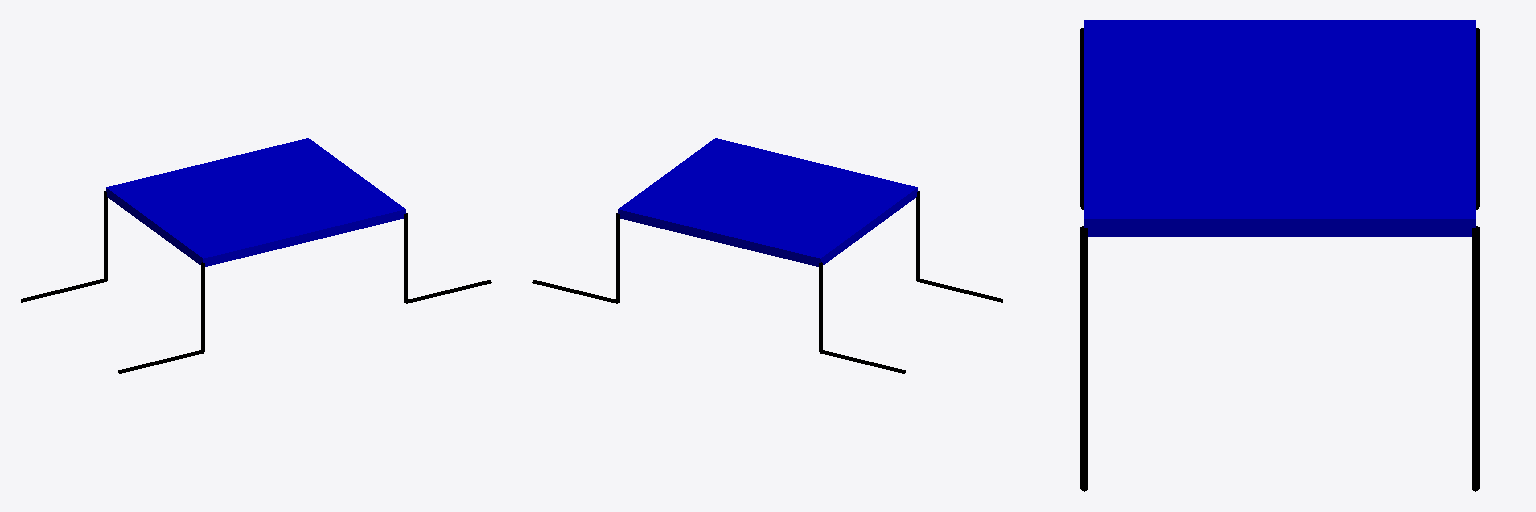
The robot description file, URDF, robot "Nybble":
<?xml version="1.0"?>
<robot name="Nybble">

    <material name="blue">
        <color rgba="0 0 0.8 1"/>
    </material>
    <material name="black">
        <color rgba="0 0 0 1"/>
    </material>

    <link name="torso">       
        <visual>
            <geometry>
                <box size="0.12 0.10 0.005"/>
            </geometry>
            <material name="blue"/>
        </visual>
      
        <collision>
              <geometry>
                    <box size="0.12 0.10 0.005"/>
              </geometry>
              <origin xyz="0 0 0"/>
        </collision>

        <inertial>
              <origin xyz="0 0 0"/>
              <mass value="0.2"/>
              <inertia ixx="0.0002" iyy="0.0003"  izz="0.0004" ixy="0.0" ixz="0.0" iyz="0.0"/>
        </inertial>
    </link>


    <link name="left_upper_arm">
        <visual>
            <origin xyz="0.00 .00 -0.025" rpy="0 0 0" />
            <geometry>
              <cylinder radius="0.001" length="0.05"/>
            </geometry>
            <material name="black"/>
        </visual>

        <collision>
            <geometry>
              <cylinder radius="0.001" length="0.05"/>
            </geometry>
            <origin xyz="0.00 .00 -0.025" rpy="0 0 0" />
        </collision>

        <inertial>
            <origin xyz=".0 .00 0.0" rpy="0 0 0" />
            <mass value="0.025"/>
            <inertia ixx="0.0" ixy="0.0" ixz="0.0" iyy="0.0" iyz="0.0" izz="0.0"/>
        </inertial>
    </link>   

    <link name="right_upper_arm">
            <visual>
                <origin xyz="0.00 .00 -0.025" rpy="0 0 0" />
                <geometry>
                  <cylinder radius="0.001" length="0.05"/>
                </geometry>
                <material name="black"/>
            </visual>

            <collision>
                <geometry>
                  <cylinder radius="0.001" length="0.05"/>
                </geometry>
                <origin xyz="0.00 .00 -0.025" rpy="0 0 0" />
            </collision>

            <inertial>
                <origin xyz=".0 .00 0.0" rpy="0 0 0" />
                <mass value="0.025"/>
                <inertia ixx="0.0" ixy="0.0" ixz="0.0" iyy="0.0" iyz="0.0" izz="0.0"/>
            </inertial>
        </link>   



    <link name="left_lower_arm">
        <visual>
            <origin xyz="0.00 .00 -0.025" rpy="0 0 0" />
            <geometry>
              <cylinder radius="0.001" length="0.05"/>
            </geometry>
            <material name="black"/>
        </visual>

        <collision>
            <geometry>
              <cylinder radius="0.001" length="0.05"/>
            </geometry>
            <origin xyz="0.00 .00 -0.025" rpy="0 0 0" />
        </collision>


        <inertial>
            <origin xyz=".0 .00 0.0" rpy="0 0 0" />
            <mass value="0.075"/>
            <inertia ixx="0.0" ixy="0.0" ixz="0.0" iyy="0.0" iyz="0.0" izz="0.0"/>
        </inertial>
    </link>   




    

    <link name="right_lower_arm">
        <visual>
            <origin xyz="0.00 .00 -0.025" rpy="0 0 0" />
            <geometry>
              <cylinder radius="0.001" length="0.05"/>
            </geometry>
            <material name="black"/>
        </visual>

        <collision>
            <geometry>
              <cylinder radius="0.001" length="0.05"/>
            </geometry>
            <origin xyz="0.00 .00 -0.025" rpy="0 0 0" />
        </collision>

        <inertial>
            <origin xyz=".0 .00 0.0" rpy="0 0 0" />
            <mass value="0.075"/>
            <inertia ixx="0.0" ixy="0.0" ixz="0.0" iyy="0.0" iyz="0.0" izz="0.0"/>
        </inertial>
    </link>   

    <link name="right_upper_leg">
        <visual>
            <origin xyz="0.00 .00 -0.025" rpy="0 0 0" />
            <geometry>
              <cylinder radius="0.001" length="0.05"/>
            </geometry>
            <material name="black"/>
        </visual>

        <collision>
            <geometry>
              <cylinder radius="0.001" length="0.05"/>
            </geometry>
            <origin xyz="0.00 .00 -0.025" rpy="0 0 0" />
        </collision>

        <inertial>
            <origin xyz=".0 .00 0.0" rpy="0 0 0" />
            <mass value="0.025"/>
            <inertia ixx="0.0" ixy="0.0" ixz="0.0" iyy="0.0" iyz="0.0" izz="0.0"/>
        </inertial>
    </link>   

    <link name="right_lower_leg">
        <visual>
            <origin xyz="0.00 .00 -0.025" rpy="0 0 0" />
            <geometry>
              <cylinder radius="0.001" length="0.05"/>
            </geometry>
            <material name="black"/>
        </visual>

        <collision>
            <geometry>
              <cylinder radius="0.001" length="0.05"/>
            </geometry>
            <origin xyz="0.00 .00 -0.025" rpy="0 0 0" />
        </collision>

        <inertial>
            <origin xyz=".0 .00 0.0" rpy="0 0 0" />
            <mass value="0.075"/>
            <inertia ixx="0.0" ixy="0.0" ixz="0.0" iyy="0.0" iyz="0.0" izz="0.0"/>
        </inertial>
    </link>   


    <link name="left_upper_leg">
        <visual>
            <origin xyz="0.00 .00 -0.025" rpy="0 0 0" />
            <geometry>
              <cylinder radius="0.001" length="0.05"/>
            </geometry>
            <material name="black"/>
        </visual>

        <collision>
            <geometry>
              <cylinder radius="0.001" length="0.05"/>
            </geometry>
            <origin xyz="0.00 .00 -0.025" rpy="0 0 0" />
        </collision>

        <inertial>
            <origin xyz=".0 .00 0.0" rpy="0 0 0" />
            <mass value="0.025"/>
            <inertia ixx="0.0" ixy="0.0" ixz="0.0" iyy="0.0" iyz="0.0" izz="0.0"/>
        </inertial>
    </link>   

    <link name="left_lower_leg">
        <visual>
            <origin xyz="0.00 .00 -0.025" rpy="0 0 0" />
            <geometry>
              <cylinder radius="0.001" length="0.05"/>
            </geometry>
            <material name="black"/>
        </visual>

        <collision>
            <geometry>
              <cylinder radius="0.001" length="0.05"/>
            </geometry>
            <origin xyz="0.00 .00 -0.025" rpy="0 0 0" />
        </collision>

        <inertial>
            <origin xyz=".0 .00 0.0" rpy="0 0 0" />
            <mass value="0.075"/>
            <inertia ixx="0.0" ixy="0.0" ixz="0.0" iyy="0.0" iyz="0.0" izz="0.0"/>
        </inertial>
    </link>   




    <joint name="shoulder_left" type="revolute">
          <axis xyz="0 1 0"/>
          <origin xyz="0.06 0.05 0" rpy="0 0 0"/>
          <parent link="torso"/>
          <child link="left_upper_arm"/>
          <limit effort="0" lower="-1.57" upper="1.57" velocity="0"/>
    </joint>

    <joint name="shoulder_right" type="revolute">
          <axis xyz="0 1 0"/>
          <origin xyz="0.06 -0.05 0" rpy="0 0 0"/>
          <parent link="torso"/>
          <child link="right_upper_arm"/>
          <limit effort="0" lower="-1.57" upper="1.57" velocity="0"/>
    </joint>

    <joint name="hip_right" type="revolute">
          <axis xyz="0 1 0"/>
          <origin xyz="-0.06 -0.05 0" rpy="0 0 0"/>
          <parent link="torso"/>
          <child link="right_upper_leg"/>
          <limit effort="0" lower="-1.57" upper="1.57" velocity="0"/>
    </joint>

    <joint name="hip_left" type="revolute">
          <axis xyz="0 1 0"/>
          <origin xyz="-0.06 0.05 0" rpy="0 0 0"/>
          <parent link="torso"/>
          <child link="left_upper_leg"/>
          <limit effort="0" lower="-1.57" upper="1.57" velocity="0"/>
    </joint>

    <joint name="elbow_left" type="revolute">
          <axis xyz="0 1 0"/>
          <origin xyz="0.00 0.00 -0.05" rpy="0 -1.57 0"/>
          <parent link="left_upper_arm"/>
          <child link="left_lower_arm"/>
          <limit effort="0" lower="-1.57" upper="1.57" velocity="0"/>
    </joint>

    <joint name="elbow_right" type="revolute">
          <axis xyz="0 1 0"/>
          <origin xyz="0.00 0.00 -0.05" rpy="0 -1.57 0"/>
          <parent link="right_upper_arm"/>
          <child link="right_lower_arm"/>
          <limit effort="0" lower="-1.57" upper="1.57" velocity="0"/>
    </joint>


    <joint name="knee_right" type="revolute">
          <axis xyz="0 1 0"/>
          <origin xyz="0.00 0.00 -0.05" rpy="0 1.57 0"/>
          <parent link="right_upper_leg"/>
          <child link="right_lower_leg"/>
          <limit effort="0" lower="-1.57" upper="1.57" velocity="0"/>
    </joint>   

    <joint name="knee_left" type="revolute">
          <axis xyz="0 1 0"/>
          <origin xyz="0.00 0.00 -0.05" rpy="0 1.57 0"/>
          <parent link="left_upper_leg"/>
          <child link="left_lower_leg"/>
          <limit effort="0" lower="-1.57" upper="1.57" velocity="0"/>
    </joint>    

</robot>

--- Facts derived from the render (not from the file) ---
The picture shows the robot from 3 angles, left to right: view 1: azimuth 30°, elevation 25°; view 2: azimuth 150°, elevation 25°; view 3: azimuth 270°, elevation 25°; orthographic projection.
Robot: Nybble — 9 links, 8 joints (8 revolute); root link torso; default pose: all joints at 0.
Links seen in each view (by area): view 1: torso; view 2: torso; view 3: torso, left_upper_arm, right_upper_arm, right_upper_leg, left_upper_leg, left_lower_arm, right_lower_arm.
Link boxes in pixels (<box>): torso: <box>106,138,405,266</box>; torso: <box>618,138,917,266</box>; torso: <box>1084,20,1475,236</box>; left_upper_arm: <box>1472,226,1479,404</box>; right_upper_arm: <box>1080,226,1087,404</box>; right_upper_leg: <box>1080,28,1083,207</box>; left_upper_leg: <box>1476,28,1479,207</box>; left_lower_arm: <box>1472,403,1479,491</box>; right_lower_arm: <box>1080,403,1087,491</box>.
Size in the robot's own frame: 0.22 by 0.102 by 0.0535 metres.
Geometry: primitives only (box / cylinder / sphere), no mesh files.